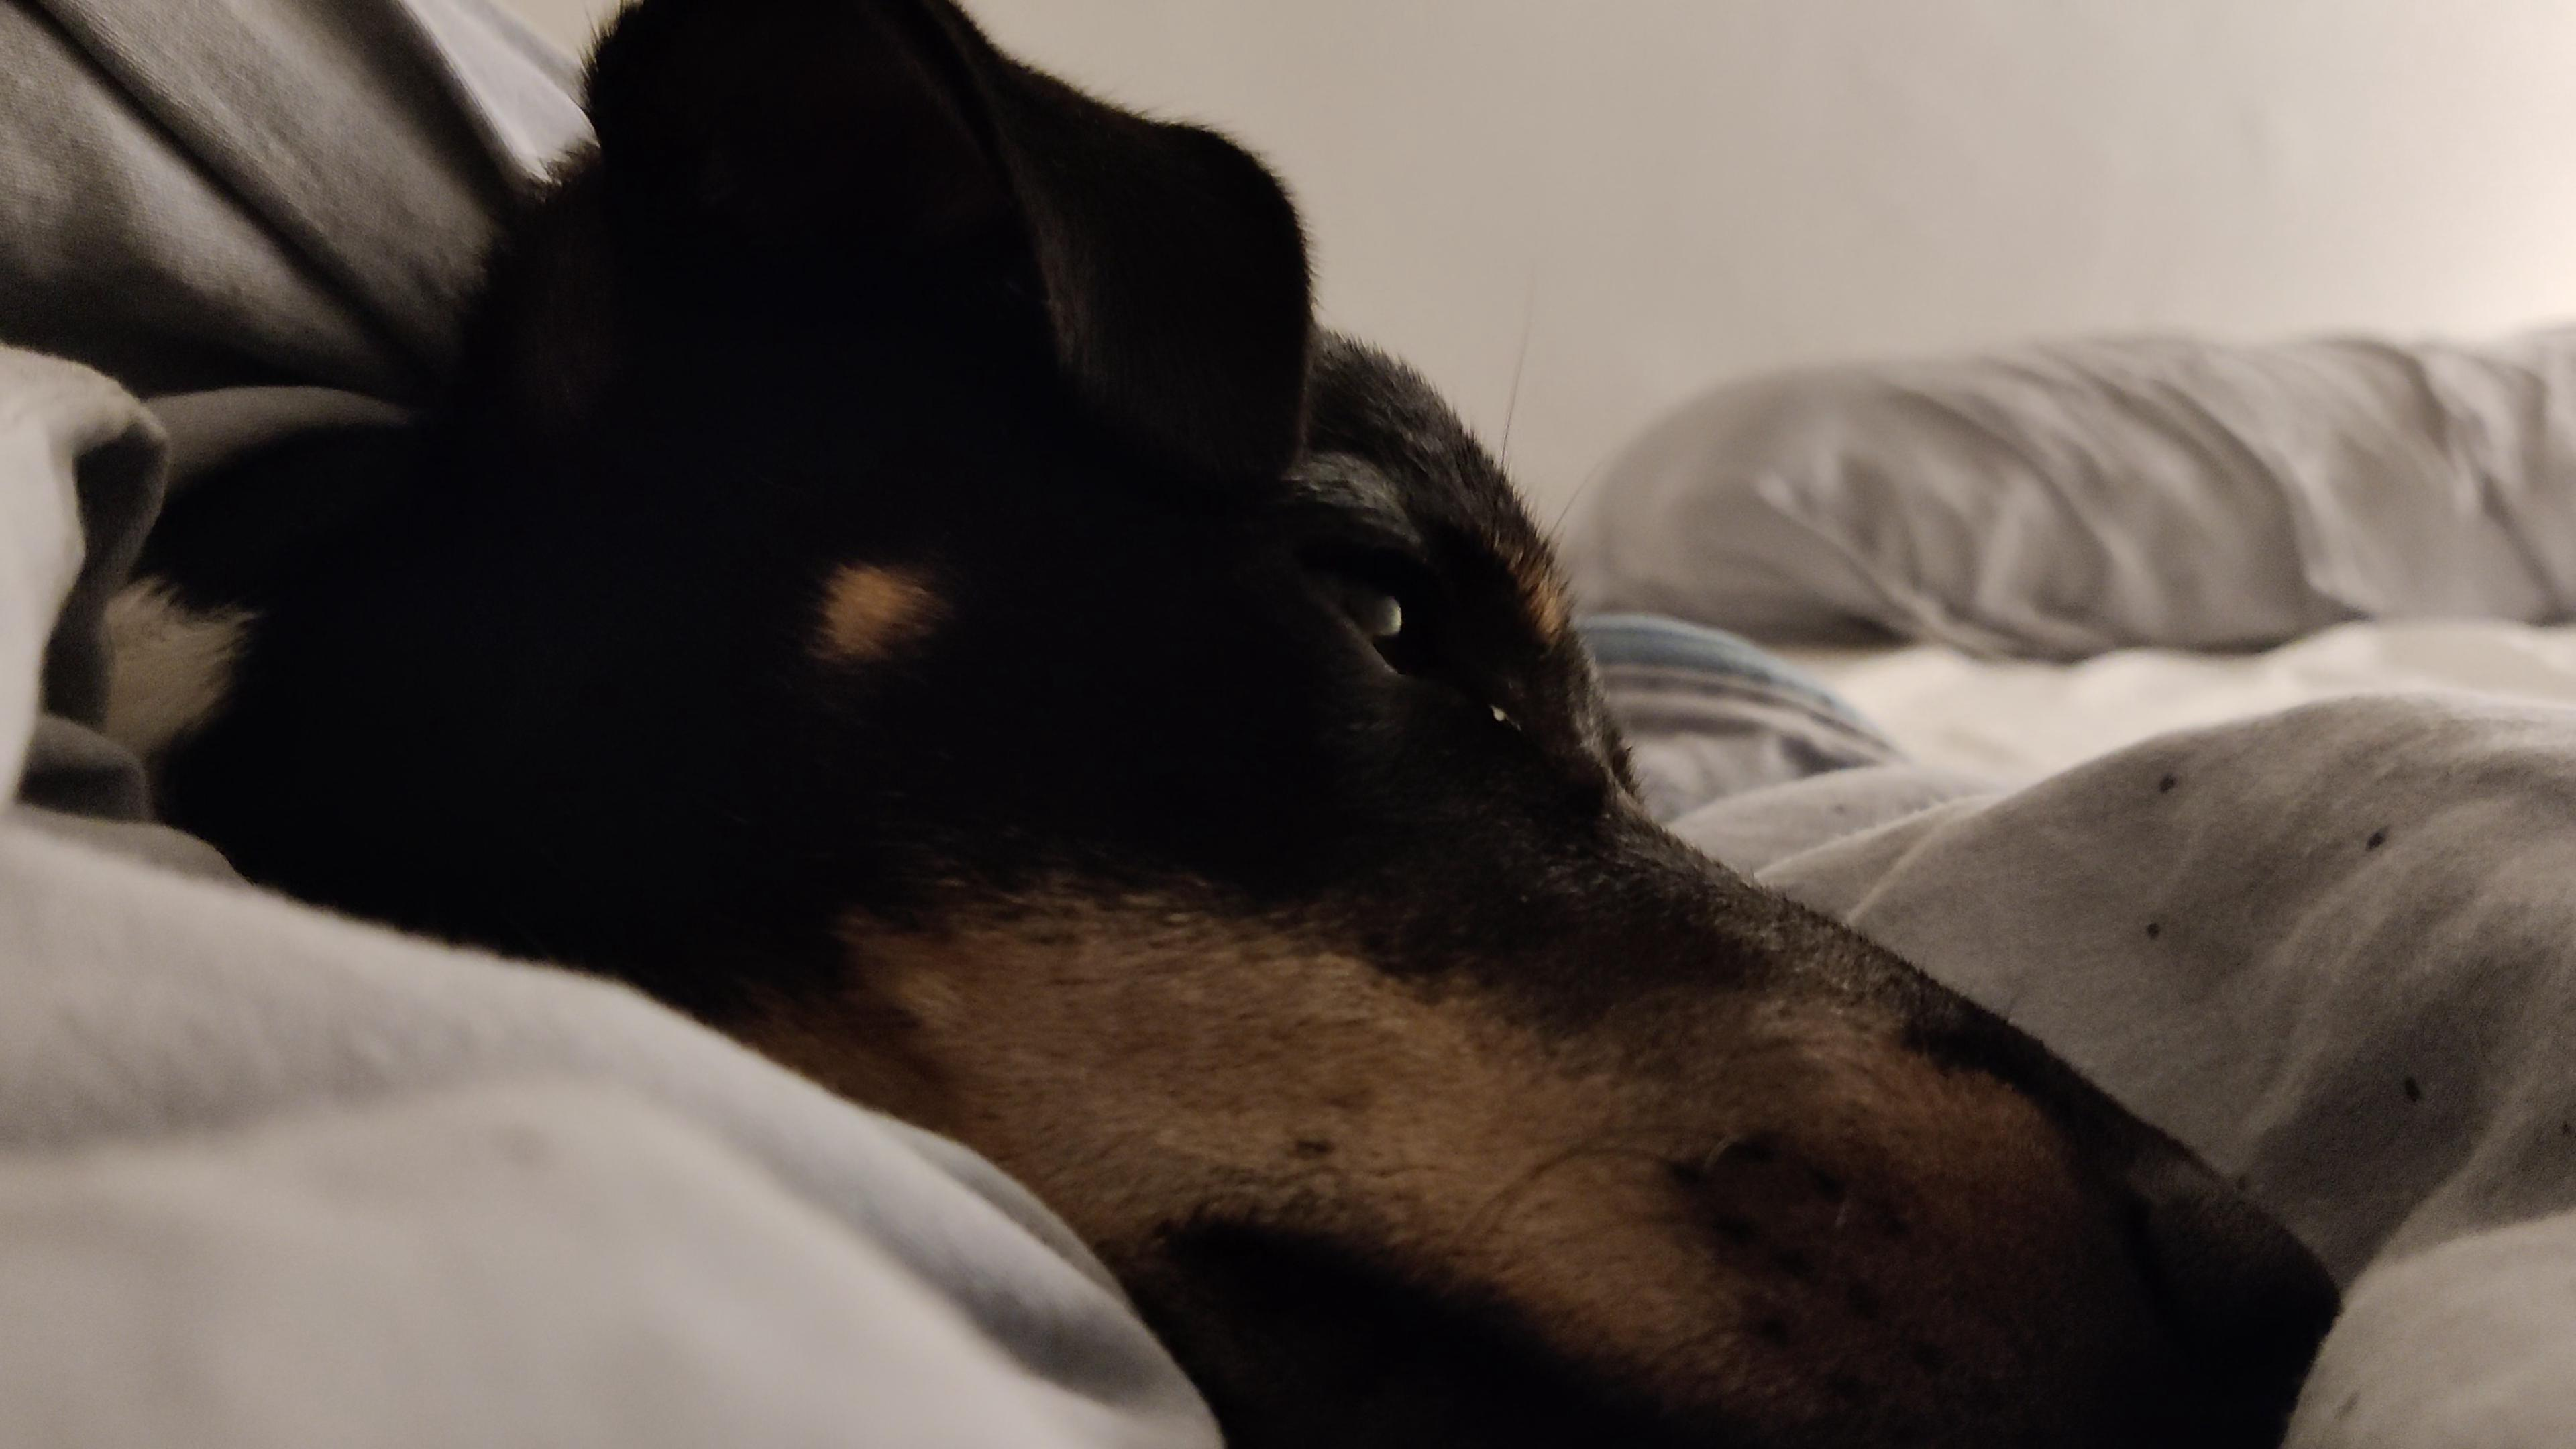Dog: (99, 0, 2360, 1449)
